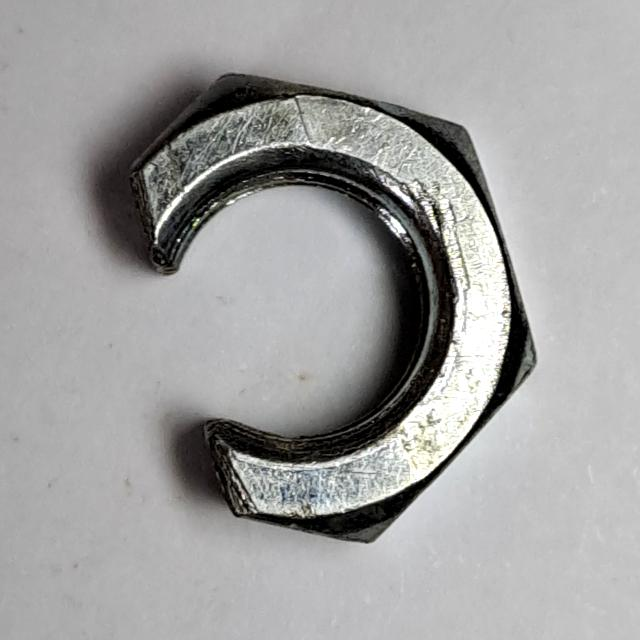Fracture: (117, 59, 547, 556)
